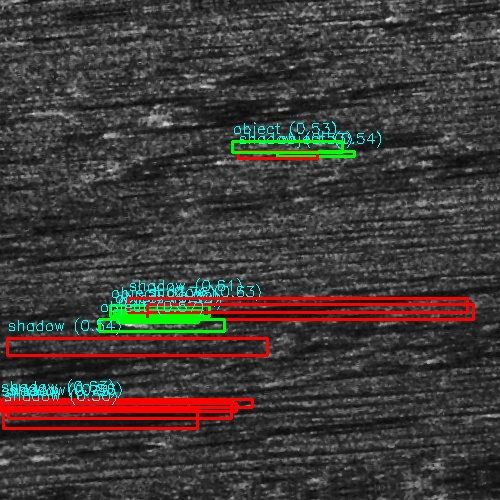rock: (215, 424, 288, 433), (220, 153, 293, 160), (134, 305, 207, 312), (0, 428, 50, 437), (57, 83, 88, 96), (182, 106, 223, 115), (0, 355, 44, 362), (0, 342, 34, 351), (409, 177, 440, 180)
shadow: (171, 305, 492, 312), (252, 424, 490, 433), (0, 395, 142, 410), (8, 342, 224, 351), (73, 83, 202, 96), (203, 106, 384, 115), (257, 153, 445, 160), (0, 336, 195, 341), (8, 355, 137, 362), (24, 428, 110, 437), (154, 116, 287, 119), (425, 177, 500, 180)
